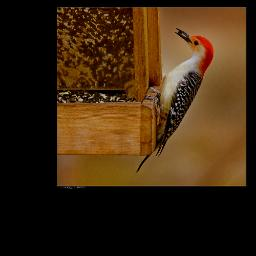Woodpecker: (136, 28, 214, 173)
